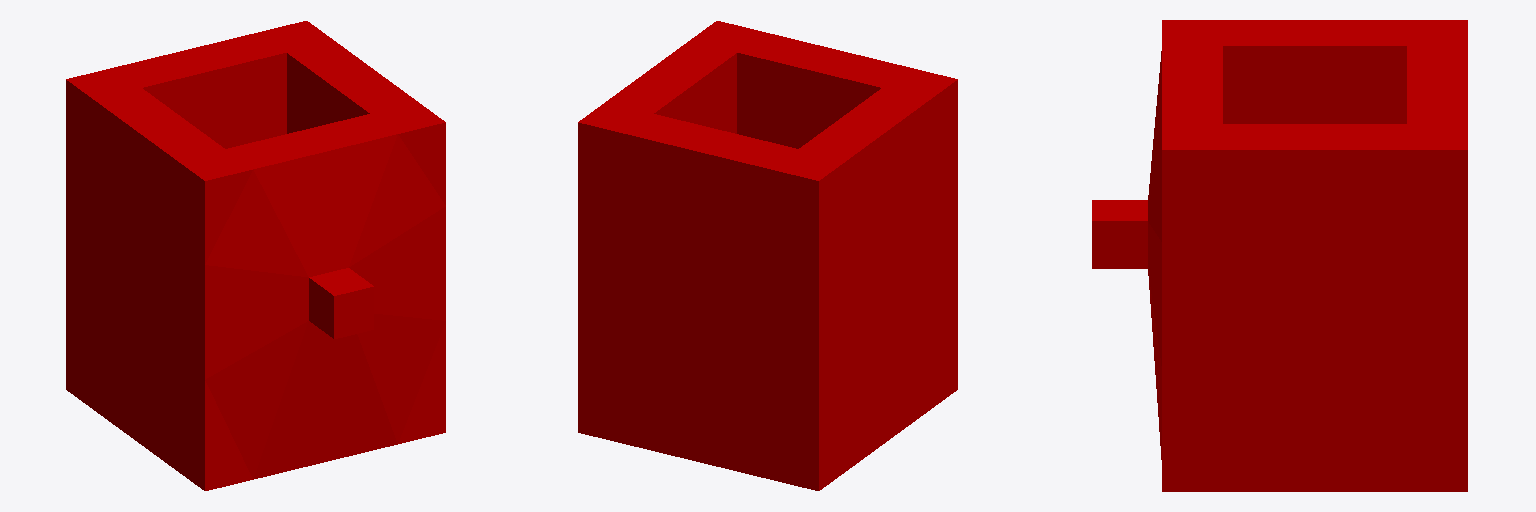
robot.urdf — cheerio:
<?xml version="1.0"?>
<robot name="cheerio">
    <link name="base_link">
        <inertial>
            <origin xyz="0 0 0" rpy="0 0 0"/>
            <mass value="0.01"/>
            <inertia ixx="0.1" ixy="0" ixz="0" iyy="0.1" iyz="0" izz="0.1" />
        </inertial>


        <visual>
            <origin xyz="0 0 0" rpy="0 0 0" />
            <geometry>
                <mesh filename="cheerio.dae" scale="2 2 2" />
            </geometry>
        </visual>

        <collision>
            <origin xyz="0 0 0" rpy="0 0 0"/>
            <geometry>
                <mesh filename="cheerio.dae" scale="2 2 2" />
            </geometry>
        </collision>
    </link>
</robot>

--- Render facts (derived) ---
Views: 3 orthographic renders of the robot side by side, from view 1: azimuth 30°, elevation 25°; view 2: azimuth 150°, elevation 25°; view 3: azimuth 270°, elevation 25°.
Robot: cheerio — 1 links, 0 joints (none); root link base_link; default pose: every joint at zero.
Links seen in each view (by area): view 1: base_link; view 2: base_link; view 3: base_link.
Boxes of the visible links, x1=… form: base_link: x1=66, y1=21, x2=445, y2=490; base_link: x1=578, y1=21, x2=957, y2=490; base_link: x1=1092, y1=20, x2=1467, y2=491.
Size in the robot's own frame: 0.4 by 0.4917 by 0.4919 metres.
1 mesh visuals loaded from 1 distinct referenced files (1 Collada DAE).